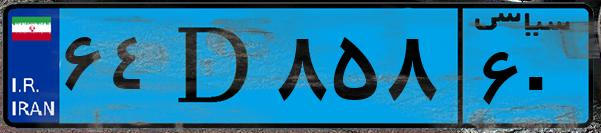0: (525, 38, 570, 115)
4: (110, 28, 158, 98)
5: (330, 28, 385, 110)
6: (57, 26, 110, 100), (475, 38, 525, 113)
8: (270, 28, 330, 110), (385, 28, 445, 110)
D: (158, 12, 270, 120)
